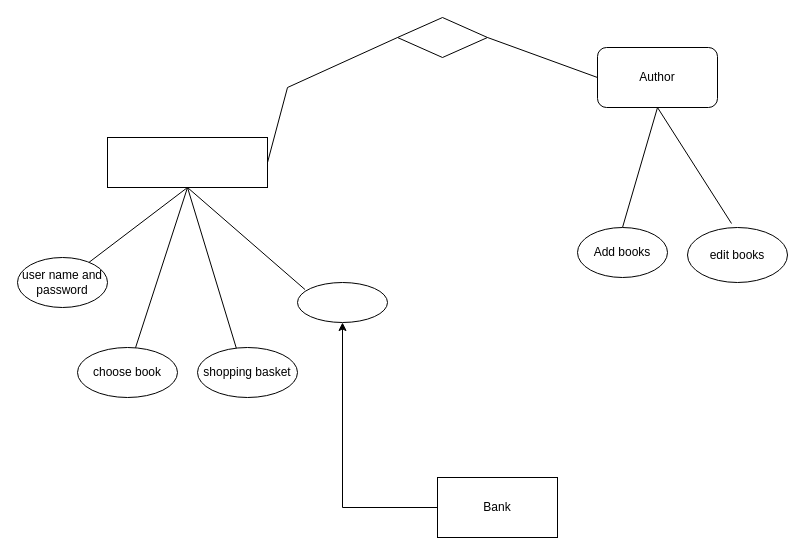
Image size: 805x555. Some labels were removed from this diagram. The shapes that lost their labels are listed below. From the top down, each one's centre as x and y in pixels, then its label:
(x=442, y=37): login
(x=187, y=162): customer
(x=342, y=302): buying
